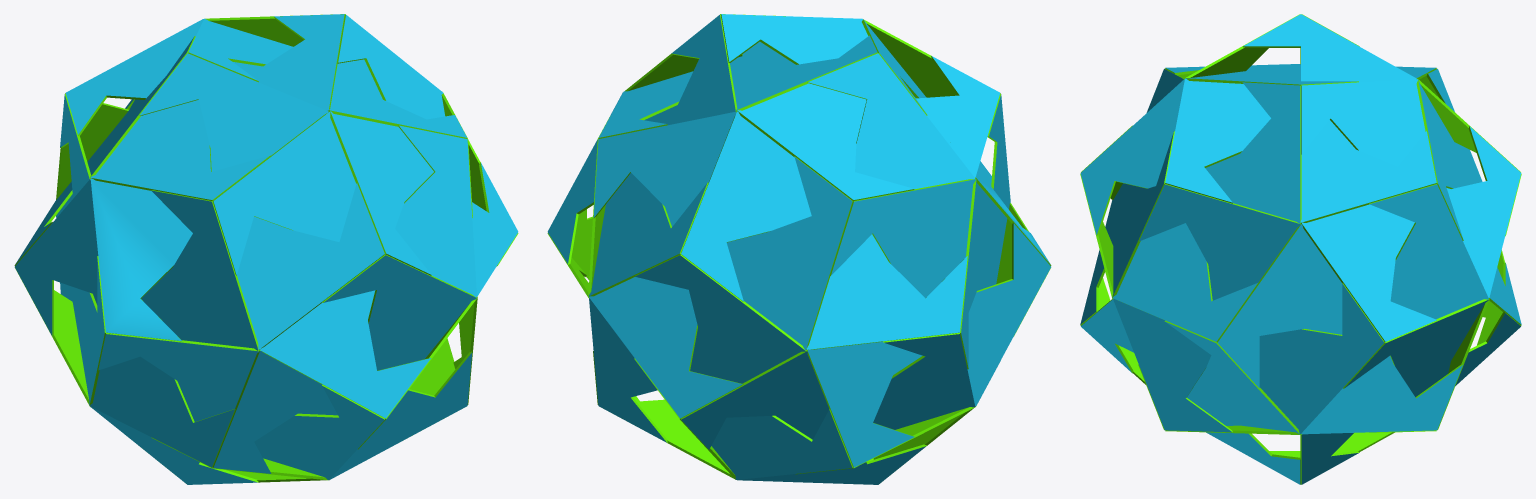
Rendered from SmallTriambicIcosahedronS.glb.
The picture shows the model from 3 angles, left to right: view 1: azimuth 30°, elevation 25°; view 2: azimuth 150°, elevation 25°; view 3: azimuth 270°, elevation 25°; orthographic projection. The views are drawn at different scales.
Parts seen in each view (by area): view 1: root; view 2: root; view 3: root.
Boxes of the visible parts, box(x1,y1,x2,y2) form: root: box(14, 14, 518, 484); root: box(547, 14, 1051, 484); root: box(1080, 14, 1521, 484).
Size of the model in its own units: 8.71 by 8.71 by 8.71.
